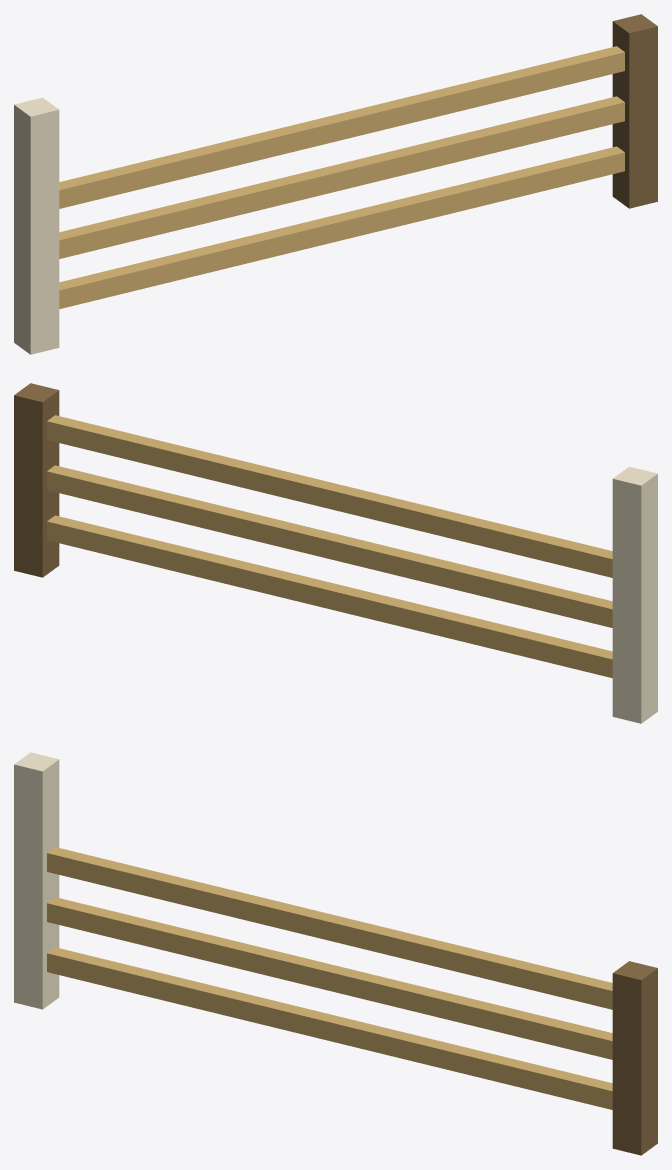
The model's file is Hurdle.glb.
3 renders of one model, top to bottom at view 1: azimuth 30°, elevation 25°; view 2: azimuth 150°, elevation 25°; view 3: azimuth 330°, elevation 25°, orthographic.
Parts seen in each view (by area): view 1: Bar2, Bar1, Bar3, GapPost, EndPost; view 2: Bar2, Bar1, Bar3, GapPost, EndPost; view 3: Bar3, Bar2, Bar1, GapPost, EndPost.
Boxes of the visible parts, left/top/right/bottom form: Bar2: left=59, top=96, right=624, bottom=258; Bar1: left=59, top=146, right=624, bottom=309; Bar3: left=59, top=46, right=624, bottom=208; GapPost: left=14, top=97, right=59, bottom=354; EndPost: left=612, top=14, right=657, bottom=208; Bar2: left=47, top=465, right=612, bottom=627; Bar1: left=47, top=515, right=612, bottom=678; Bar3: left=47, top=415, right=612, bottom=577; GapPost: left=612, top=466, right=657, bottom=723; EndPost: left=14, top=383, right=59, bottom=577; Bar3: left=47, top=847, right=612, bottom=1009; Bar2: left=47, top=897, right=612, bottom=1059; Bar1: left=47, top=947, right=612, bottom=1109; GapPost: left=14, top=752, right=59, bottom=1009; EndPost: left=612, top=961, right=657, bottom=1155.
Bounding box in the file's own units: 52.4 × 19 × 2.4.
